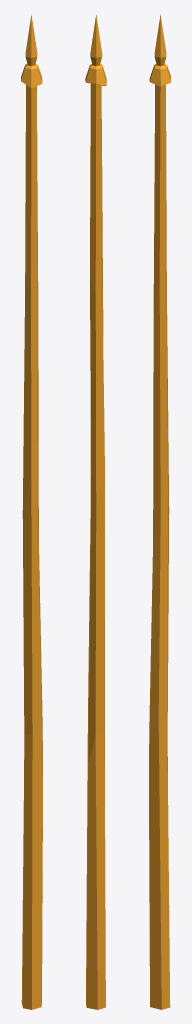
Rendered from SM_Flag_Stand_Wood_Pole_C_Fantasy.fbx.
3 renders of one model, left to right at view 1: azimuth 90°, elevation 25°; view 2: azimuth 150°, elevation 25°; view 3: azimuth 270°, elevation 25°, orthographic.
Visible parts, largest first — view 1: flag-stand-wood-pole-c-fantasy; view 2: flag-stand-wood-pole-c-fantasy; view 3: flag-stand-wood-pole-c-fantasy.
Boxes of the visible parts, x1,y1,x2,y2 form: flag-stand-wood-pole-c-fantasy: (21,14,42,1009); flag-stand-wood-pole-c-fantasy: (85,15,106,1009); flag-stand-wood-pole-c-fantasy: (149,14,170,1009).
Bounding box in the file's own units: 0.1219 × 5.43 × 0.1105.
